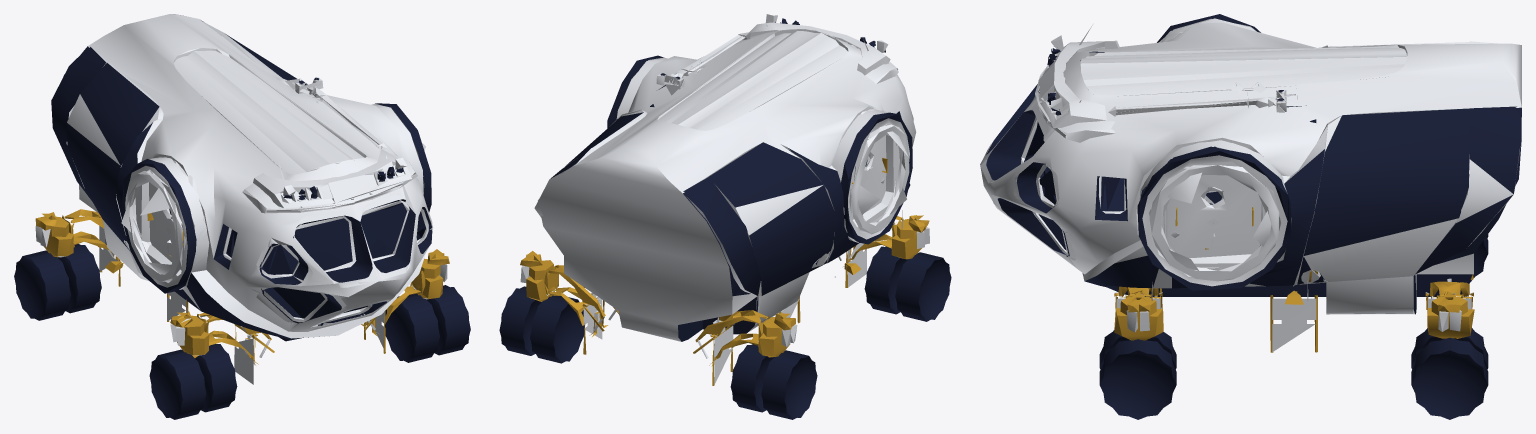
Rendered from scout.glb.
3 renders of one model, left to right at view 1: azimuth 30°, elevation 25°; view 2: azimuth 150°, elevation 25°; view 3: azimuth 270°, elevation 25°, orthographic. The views are drawn at different scales.
Parts seen in each view (by area): view 1: scout_body_mesh, scout_wheel_fr_mesh, scout_wheel_rr_mesh, scout_wheel_fl_mesh; view 2: scout_body_mesh, scout_wheel_rr_mesh, scout_wheel_fr_mesh, scout_wheel_rl_mesh; view 3: scout_body_mesh, scout_wheel_rl_mesh, scout_wheel_fl_mesh.
Part boxes in pixels (x1,y1,x2,y2): scout_body_mesh: [35, 14, 449, 384]; scout_wheel_fr_mesh: [149, 344, 237, 419]; scout_wheel_rr_mesh: [14, 244, 101, 320]; scout_wheel_fl_mesh: [385, 285, 470, 362]; scout_body_mesh: [520, 14, 929, 385]; scout_wheel_rr_mesh: [730, 344, 817, 419]; scout_wheel_fr_mesh: [864, 246, 951, 321]; scout_wheel_rl_mesh: [499, 286, 584, 363]; scout_body_mesh: [980, 14, 1521, 352]; scout_wheel_rl_mesh: [1411, 328, 1488, 419]; scout_wheel_fl_mesh: [1099, 330, 1176, 419].
Bounding box in the file's own units: 1.23 × 1.03 × 1.74.
